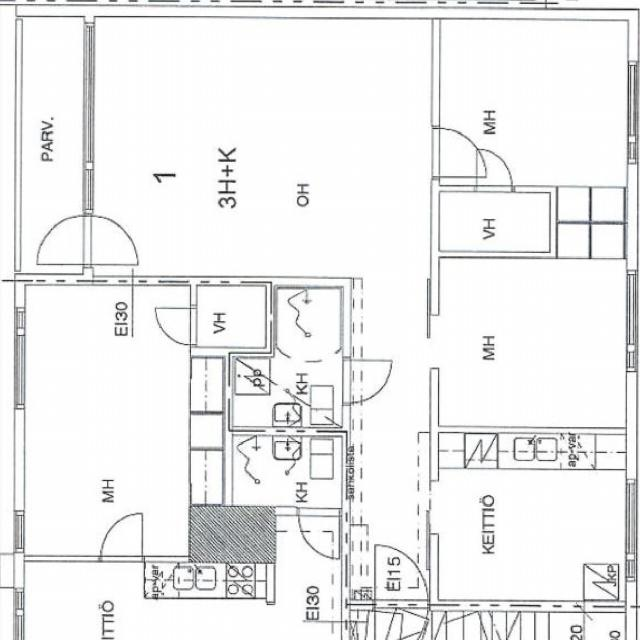door: (374, 544, 427, 611), (430, 129, 486, 177), (37, 217, 94, 264), (84, 217, 140, 264), (341, 360, 391, 402), (477, 148, 512, 192)
